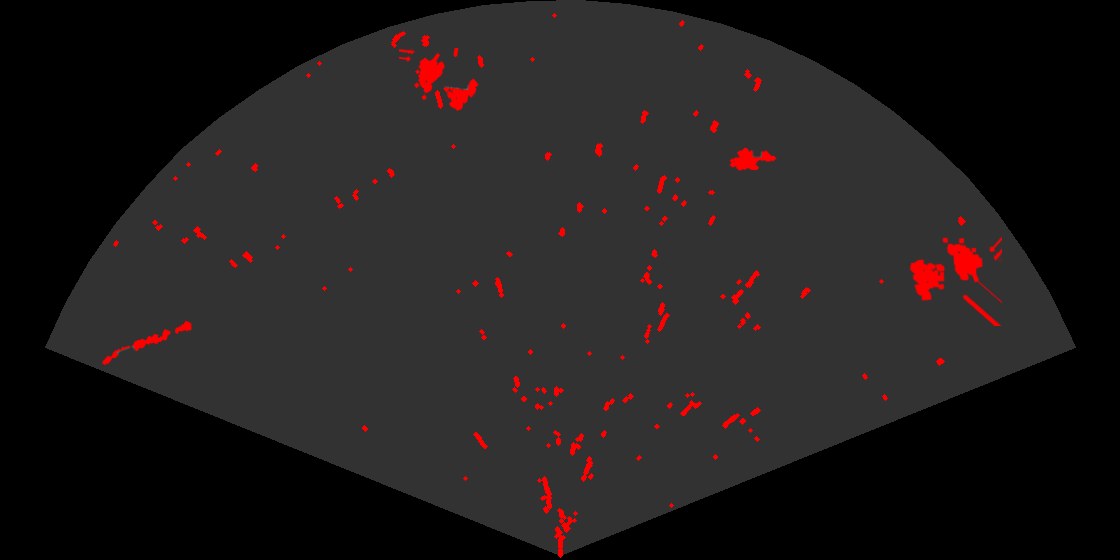AUV: (728, 146, 778, 172)
cage: (908, 235, 1002, 326), (399, 48, 480, 112)
chain: (101, 319, 194, 367)
